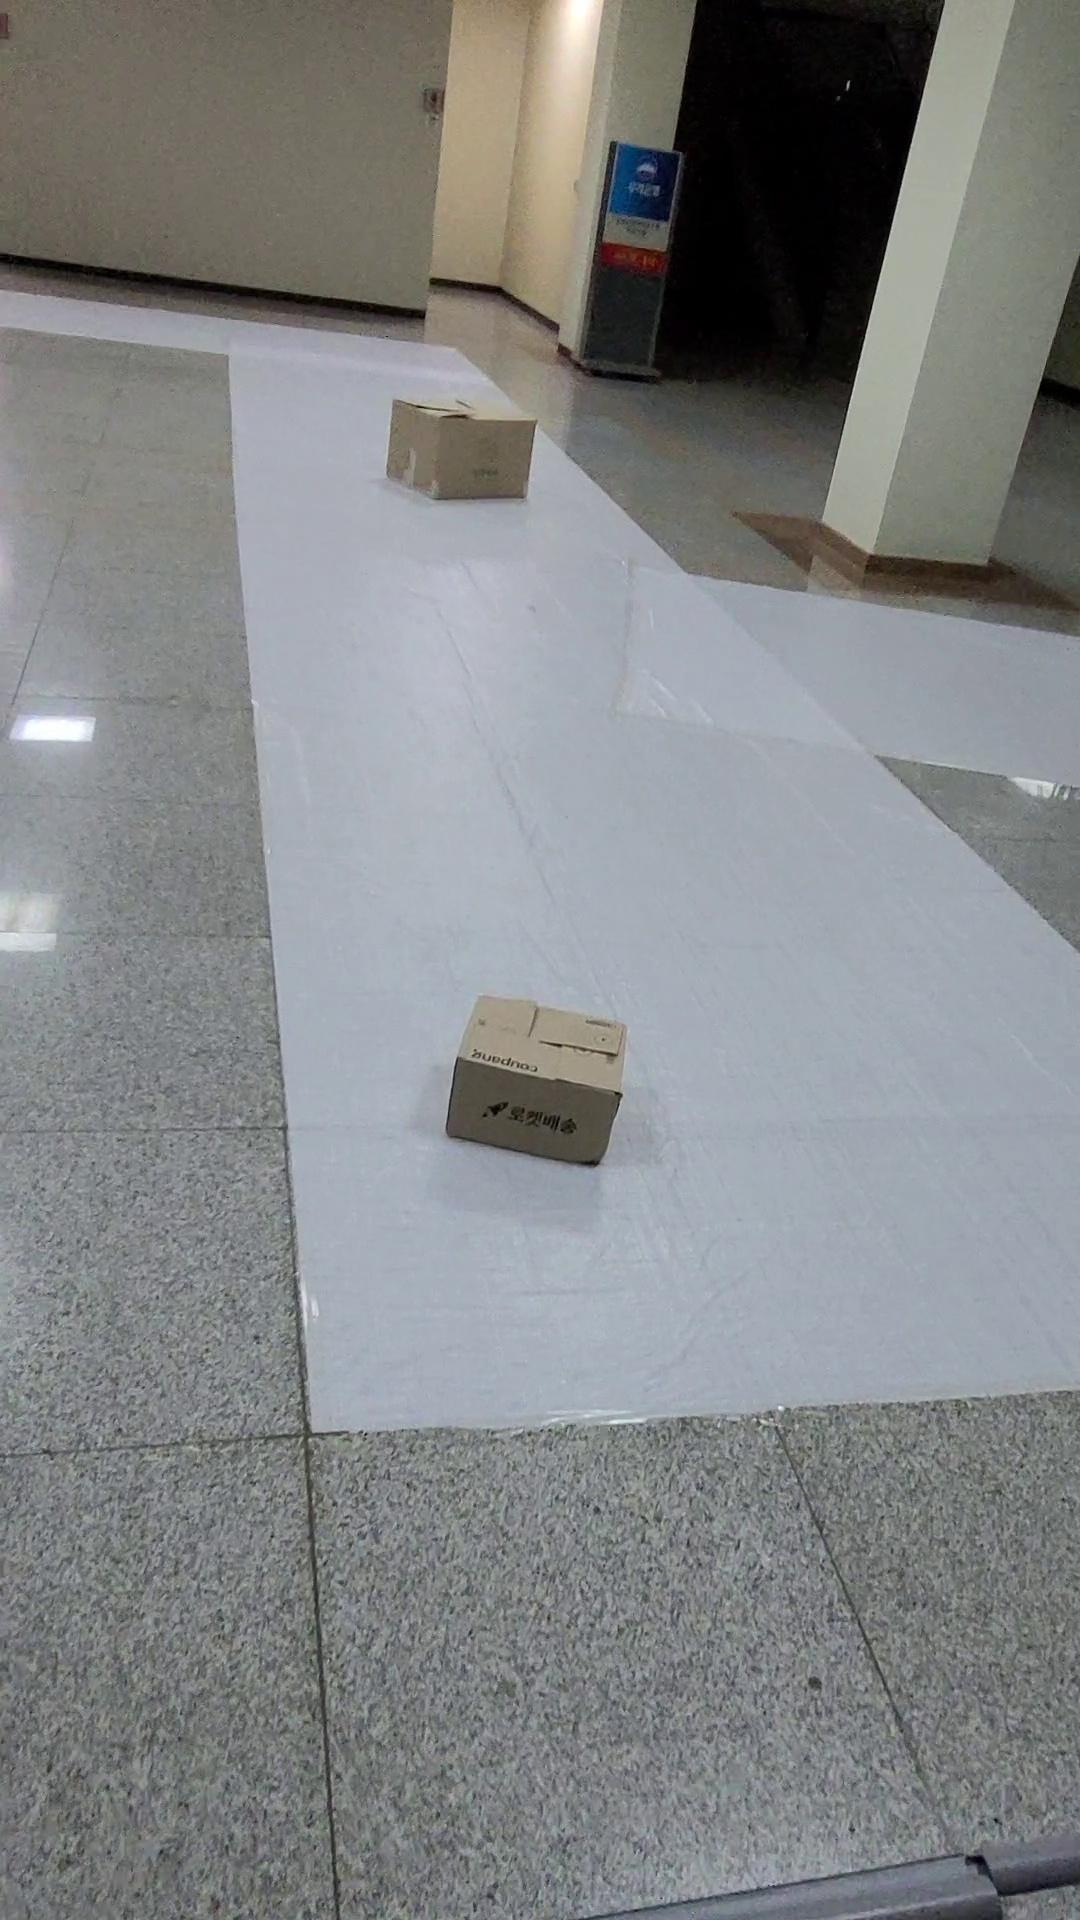Box: (378, 940, 698, 1185), (345, 357, 549, 553)
